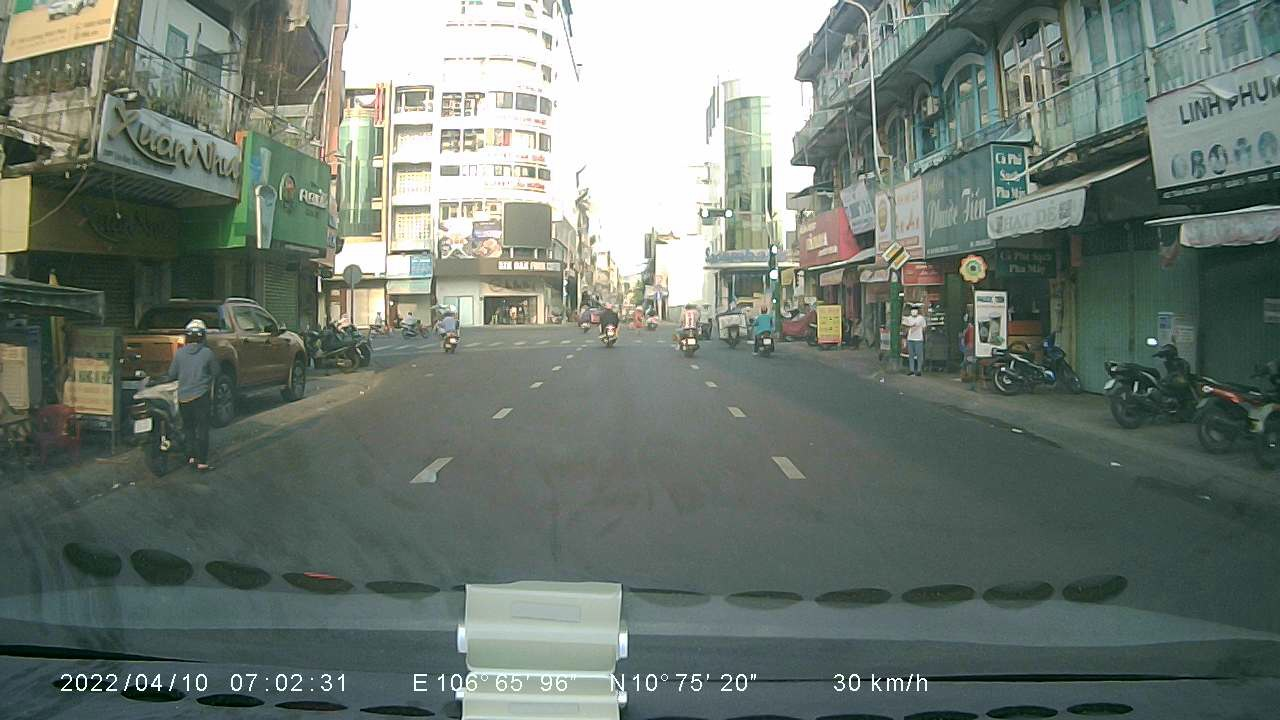Bien khac: (878, 242, 910, 270)
